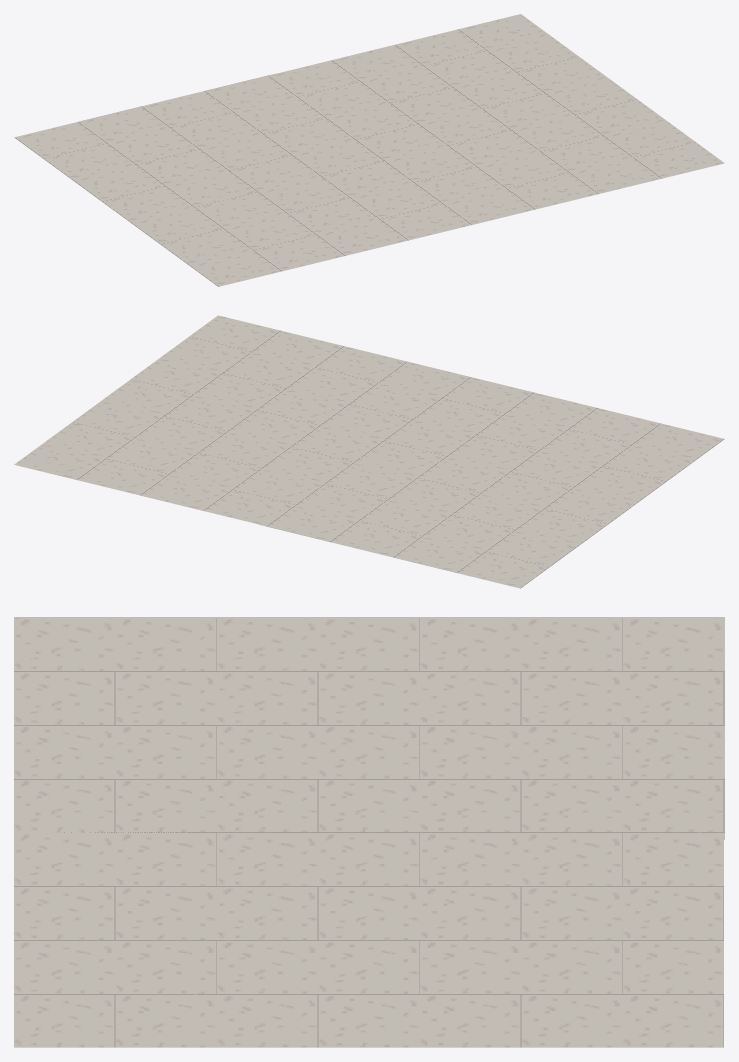
Rendered from kd_stage_135c43_4_31.glb.
3 views of the same model, one above another, from view 1: azimuth 30°, elevation 25°; view 2: azimuth 150°, elevation 25°; view 3: azimuth 270°, elevation 25° (orthographic). The views are drawn at different scales.
Parts seen in each view (by area): view 1: kd_stage_135c43_4_31; view 2: kd_stage_135c43_4_31; view 3: kd_stage_135c43_4_31.
Part boxes in pixels (box(x1,y1,x2,y2)): kd_stage_135c43_4_31: box(14, 14, 724, 286); kd_stage_135c43_4_31: box(14, 315, 724, 588); kd_stage_135c43_4_31: box(14, 617, 724, 1047).
Bounding box in the file's own units: 4.5 × 1.19e-07 × 3.14.
Materials: 1 (1 with a texture image).
